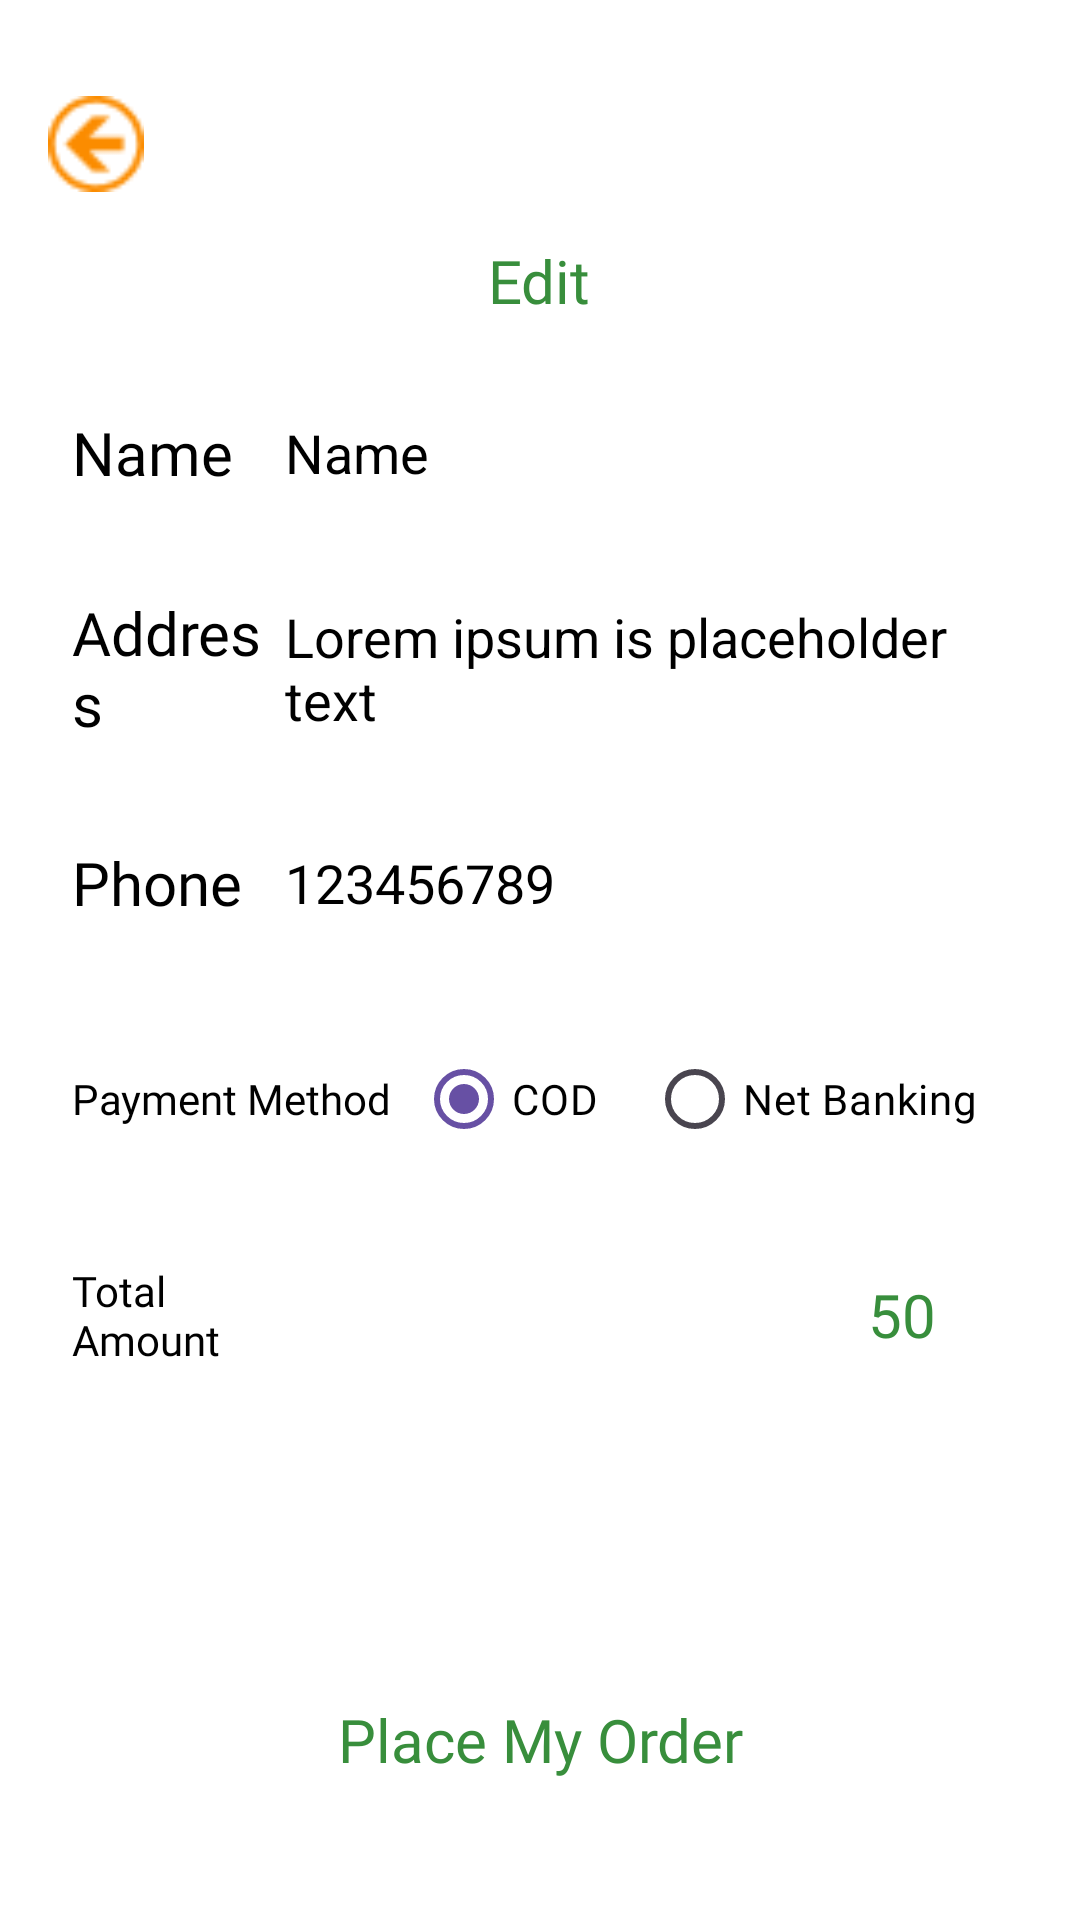

Icon click points for this 1080px×1920px phone screenshot, format point (x, y):
lefteror: point (96, 144)
